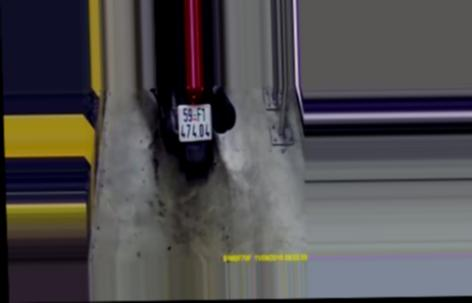License_Plate: (175, 103, 218, 141)
